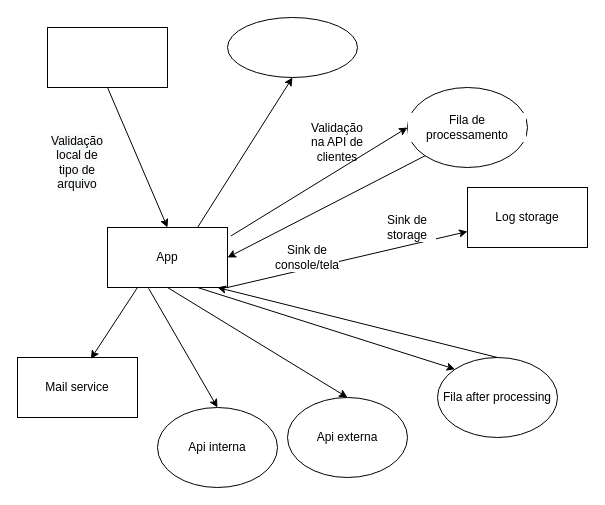
Some shapes in this 605 by 505 pixel diagram are drawn without their labels. The shapes that lost their labels are listed below. From the top down, each one's centre as x and y in pixels, then its label:
the point at 107,57: Servidor arquivos
the point at 292,47: API dados dos clientes
